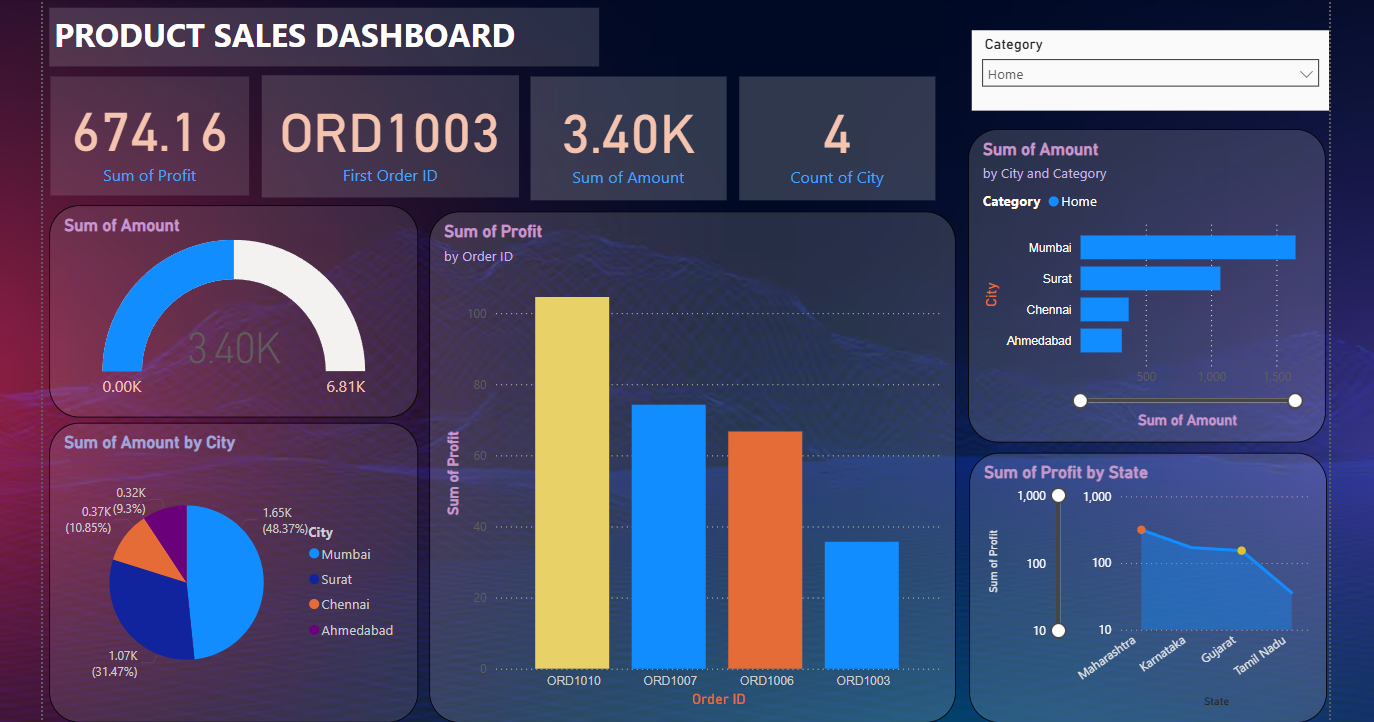

This screenshot's page, from the dashboard's own definition file:
{"tool":"powerbi","page":{"name":"Page 1","canvas":[1280,720],"ordinal":0},"visuals":[{"type":"barChart","fields":{"Category":["Client Info.City"],"Series":["Order Details.Category"],"Y":["Sum(Order Details.Amount)"]},"box":[920.5,129.4,355.8,312.2],"z":0},{"type":"stackedAreaChart","fields":{"Category":["Client Info.State"],"Y":["Sum(Order Details.Profit)"]},"box":[921.8,451.3,355.8,268.7],"z":1000},{"type":"card","fields":{"Values":["Min(Order Details.Order ID)"]},"box":[217.7,75.9,256.3,121.9],"z":2000},{"type":"card","fields":{"Values":["Sum(Order Details.Amount)"]},"box":[485.1,77.1,195.3,123.2],"z":3000},{"type":"pieChart","fields":{"Y":["Sum(Order Details.Amount)"],"Category":["Client Info.City"]},"box":[6.2,421.4,367,298.6],"z":4000},{"type":"card","fields":{"Values":["Sum(Order Details.Profit)"]},"box":[7.5,77.1,197.8,118.2],"z":5000},{"type":"gauge","fields":{"Y":["Sum(Order Details.Amount)"]},"box":[6.2,205.3,367,211.5],"z":6000},{"type":"lineClusteredColumnComboChart","fields":{"Category":["Client Info.Order ID"],"Y":["Sum(Order Details.Profit)"]},"box":[384.4,211.2,523.7,508.8],"z":7000},{"type":"slicer","fields":{"Values":["Order Details.Category"]},"box":[924.2,31.1,355.8,79.6],"z":8000},{"type":"textbox","box":[6.2,8.7,547.3,58.5],"z":9000},{"type":"card","fields":{"Values":["Count(Client Info.City)"]},"box":[692.9,77.1,195.3,123.2],"z":10000}]}

Visuals, with their boxes on the page's 1280x720 design canvas (x1, y1, x2, y2). These are canvas units, not pixel positions in the 1374x722 screenshot, which may show the page scaled, cropped or inside an application window:
barChart - Client Info.City x Order Details.Category: [920, 129, 1276, 442]
stackedAreaChart - Client Info.State x Sum(Order Details.Profit): [922, 451, 1278, 720]
card - Min(Order Details.Order ID): [218, 76, 474, 198]
card - Sum(Order Details.Amount): [485, 77, 680, 200]
pieChart - Sum(Order Details.Amount) x Client Info.City: [6, 421, 373, 720]
card - Sum(Order Details.Profit): [8, 77, 205, 195]
gauge - Sum(Order Details.Amount): [6, 205, 373, 417]
lineClusteredColumnComboChart - Client Info.Order ID x Sum(Order Details.Profit): [384, 211, 908, 720]
slicer - Order Details.Category: [924, 31, 1280, 111]
textbox: [6, 9, 554, 67]
card - Count(Client Info.City): [693, 77, 888, 200]
